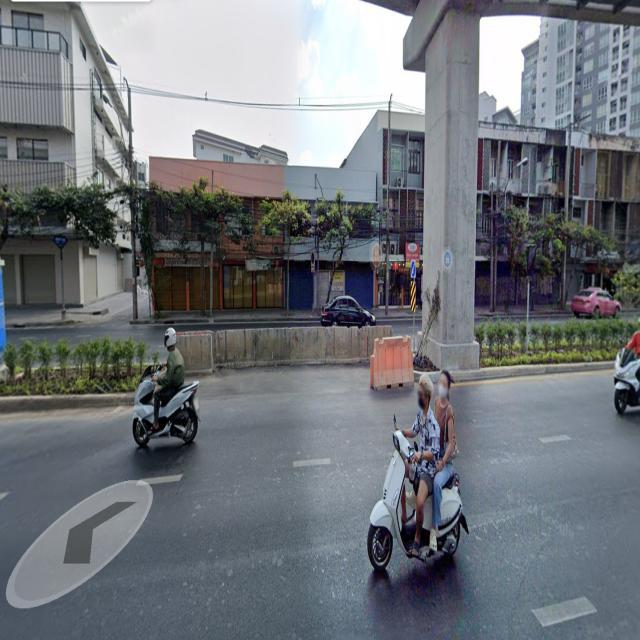fallen_object: (127, 316, 394, 369), (346, 329, 429, 397)
